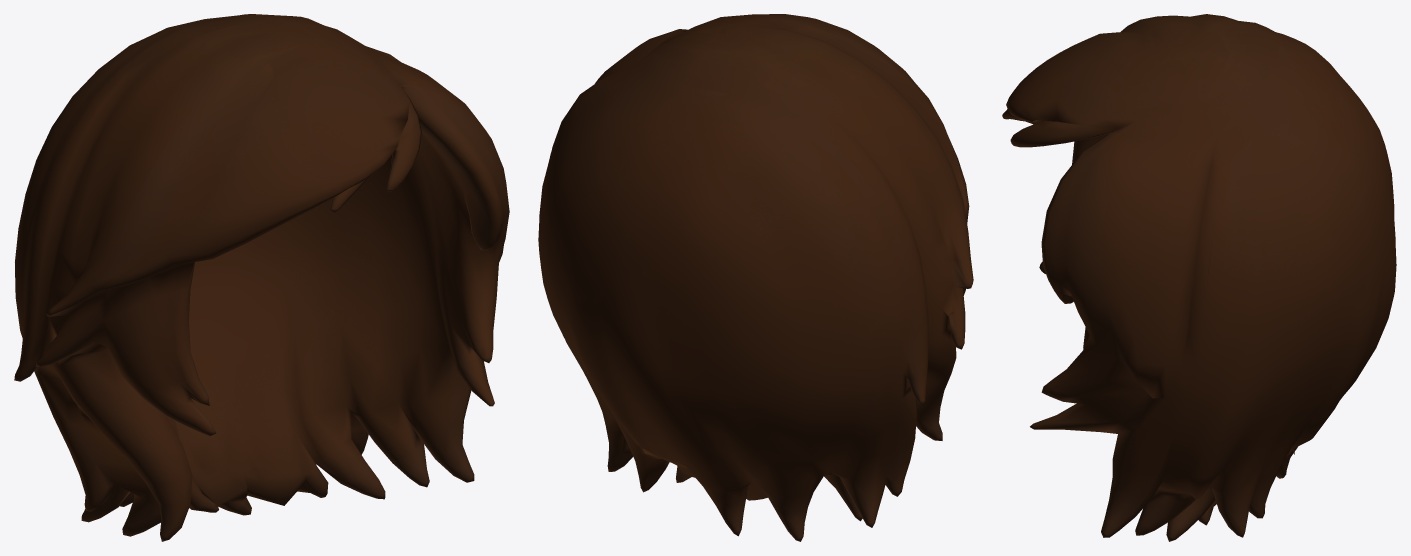
Rendered from hair1.fbx.
3 renders of one model, left to right at view 1: azimuth 30°, elevation 25°; view 2: azimuth 150°, elevation 25°; view 3: azimuth 270°, elevation 25°, orthographic. The views are drawn at different scales.
Parts seen in each view (by area): view 1: texture_pbr_v128; view 2: texture_pbr_v128; view 3: texture_pbr_v128.
Boxes of the visible parts, box(x1,y1,x2,y2) form: texture_pbr_v128: box(14, 14, 509, 541); texture_pbr_v128: box(538, 14, 973, 541); texture_pbr_v128: box(1002, 14, 1396, 541).
Bounding box in the file's own units: 92.83 × 99.6 × 77.73.
1 material, 1 textured.
